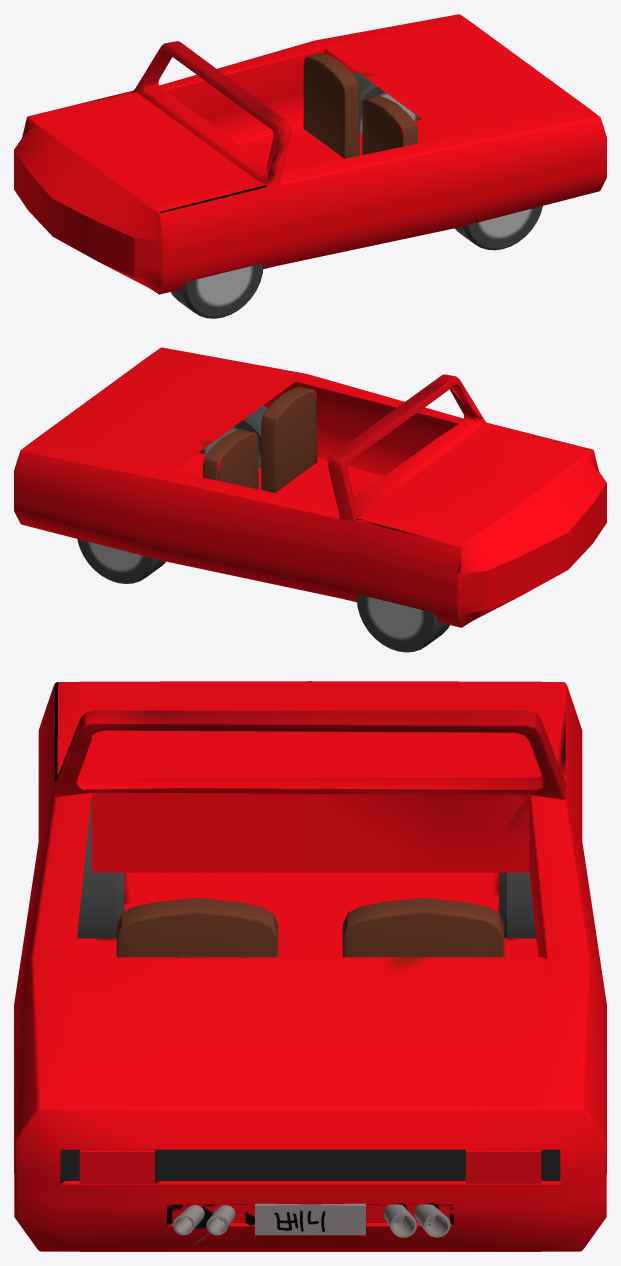
The model's file is PinkyMobile.fbx.
The picture shows the model from 3 angles, top to bottom: view 1: azimuth 30°, elevation 25°; view 2: azimuth 150°, elevation 25°; view 3: azimuth 270°, elevation 25°; orthographic projection. The views are drawn at different scales.
Visible parts, largest first — view 1: Cube; view 2: Cube; view 3: Cube.
Part boxes in pixels (x1,y1,x2,y2): Cube: (14,14,606,318); Cube: (14,347,606,652); Cube: (14,681,606,1251).
Size of the model in its own units: 19.97 by 6.35 by 10.48.
1 material, 1 textured.
